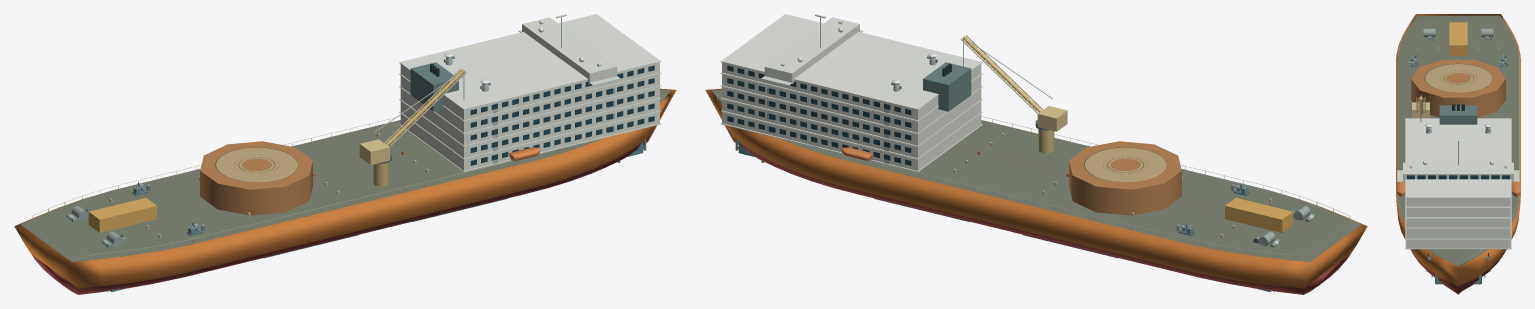
File: nexans-aurora.lod0.glb
3 views of the same model, side by side, from view 1: azimuth 30°, elevation 25°; view 2: azimuth 150°, elevation 25°; view 3: azimuth 270°, elevation 25° (orthographic). The views are drawn at different scales.
Visible parts, largest first — view 1: nexans-aurora.structure.decks.main-strength-deck.1, nexans-aurora.structure.hull.outer-hull-shell.1, nexans-aurora.accommodation.superstructure.superstructure-we, nexans-aurora.cargo.cable-storage.cable-carousel.1, nexans-aurora.structure.hull.antifouling-underwater-shell.1, nexans-aurora.accommodation.superstructure.deck-3-enclosure., nexans-aurora.accommodation.superstructure.deck-2-enclosure., nexans-aurora.navigation.bridge.wheelhouse.1, nexans-aurora.accommodation.superstructure.deck-1-enclosure., nexans-aurora.accommodation.superstructure.deck-4-enclosure., nexans-aurora.accommodation.superstructure.deck-5-enclosure., nexans-aurora.cargo.lay-line.cable-tensioner.1 (+9 smaller); view 2: nexans-aurora.structure.decks.main-strength-deck.1, nexans-aurora.structure.hull.outer-hull-shell.1, nexans-aurora.accommodation.superstructure.superstructure-we, nexans-aurora.cargo.cable-storage.cable-carousel.1, nexans-aurora.structure.hull.antifouling-underwater-shell.1, nexans-aurora.accommodation.superstructure.deck-2-enclosure., nexans-aurora.accommodation.superstructure.deck-3-enclosure., nexans-aurora.navigation.bridge.wheelhouse.1, nexans-aurora.accommodation.superstructure.deck-1-enclosure., nexans-aurora.accommodation.superstructure.deck-4-enclosure., nexans-aurora.accommodation.superstructure.deck-5-enclosure., nexans-aurora.propulsion.exhaust.exhaust-casing.1 (+9 smaller); view 3: nexans-aurora.structure.decks.main-strength-deck.1, nexans-aurora.accommodation.superstructure.superstructure-we, nexans-aurora.cargo.cable-storage.cable-carousel.1, nexans-aurora.structure.hull.outer-hull-shell.1, nexans-aurora.navigation.bridge.wheelhouse.1, nexans-aurora.accommodation.superstructure.deck-2-enclosure., nexans-aurora.accommodation.superstructure.deck-3-enclosure., nexans-aurora.accommodation.superstructure.deck-4-enclosure., nexans-aurora.accommodation.superstructure.deck-1-enclosure., nexans-aurora.accommodation.superstructure.deck-5-enclosure., nexans-aurora.propulsion.exhaust.exhaust-casing.1, nexans-aurora.cargo.lay-line.cable-tensioner.1 (+17 smaller).
Part boxes in pixels (bbox=[...]): nexans-aurora.structure.decks.main-strength-deck.1: bbox=[21, 89, 670, 261]; nexans-aurora.structure.hull.outer-hull-shell.1: bbox=[14, 88, 676, 288]; nexans-aurora.accommodation.superstructure.superstructure-we: bbox=[399, 14, 661, 109]; nexans-aurora.cargo.cable-storage.cable-carousel.1: bbox=[200, 141, 312, 215]; nexans-aurora.structure.hull.antifouling-underwater-shell.1: bbox=[32, 126, 656, 294]; nexans-aurora.accommodation.superstructure.deck-3-enclosure.: bbox=[400, 86, 659, 145]; nexans-aurora.accommodation.superstructure.deck-2-enclosure.: bbox=[400, 99, 659, 158]; nexans-aurora.navigation.bridge.wheelhouse.1: bbox=[522, 17, 617, 83]; nexans-aurora.accommodation.superstructure.deck-1-enclosure.: bbox=[400, 112, 659, 170]; nexans-aurora.accommodation.superstructure.deck-4-enclosure.: bbox=[400, 74, 659, 132]; nexans-aurora.accommodation.superstructure.deck-5-enclosure.: bbox=[400, 62, 659, 120]; nexans-aurora.cargo.lay-line.cable-tensioner.1: bbox=[88, 198, 156, 232]; nexans-aurora.structure.decks.main-strength-deck.1: bbox=[711, 89, 1360, 261]; nexans-aurora.structure.hull.outer-hull-shell.1: bbox=[705, 88, 1367, 288]; nexans-aurora.accommodation.superstructure.superstructure-we: bbox=[720, 14, 982, 109]; nexans-aurora.cargo.cable-storage.cable-carousel.1: bbox=[1069, 141, 1181, 215]; nexans-aurora.structure.hull.antifouling-underwater-shell.1: bbox=[725, 126, 1349, 294]; nexans-aurora.accommodation.superstructure.deck-2-enclosure.: bbox=[722, 99, 981, 158]; nexans-aurora.accommodation.superstructure.deck-3-enclosure.: bbox=[722, 86, 981, 145]; nexans-aurora.navigation.bridge.wheelhouse.1: bbox=[764, 17, 859, 83]; nexans-aurora.accommodation.superstructure.deck-1-enclosure.: bbox=[722, 112, 981, 170]; nexans-aurora.accommodation.superstructure.deck-4-enclosure.: bbox=[722, 74, 981, 132]; nexans-aurora.accommodation.superstructure.deck-5-enclosure.: bbox=[722, 62, 981, 120]; nexans-aurora.propulsion.exhaust.exhaust-casing.1: bbox=[923, 62, 971, 111]; nexans-aurora.structure.decks.main-strength-deck.1: bbox=[1397, 15, 1519, 266]; nexans-aurora.accommodation.superstructure.superstructure-we: bbox=[1405, 118, 1511, 197]; nexans-aurora.cargo.cable-storage.cable-carousel.1: bbox=[1411, 59, 1505, 117]; nexans-aurora.structure.hull.outer-hull-shell.1: bbox=[1396, 14, 1520, 285]; nexans-aurora.navigation.bridge.wheelhouse.1: bbox=[1403, 162, 1513, 182]; nexans-aurora.accommodation.superstructure.deck-2-enclosure.: bbox=[1406, 228, 1510, 237]; nexans-aurora.accommodation.superstructure.deck-3-enclosure.: bbox=[1406, 218, 1510, 227]; nexans-aurora.accommodation.superstructure.deck-4-enclosure.: bbox=[1406, 207, 1510, 216]; nexans-aurora.accommodation.superstructure.deck-1-enclosure.: bbox=[1406, 239, 1510, 248]; nexans-aurora.accommodation.superstructure.deck-5-enclosure.: bbox=[1406, 198, 1510, 206]; nexans-aurora.propulsion.exhaust.exhaust-casing.1: bbox=[1439, 105, 1477, 124]; nexans-aurora.cargo.lay-line.cable-tensioner.1: bbox=[1449, 22, 1467, 56].
Bounding box in the file's own units: 150 × 34.36 × 31.
